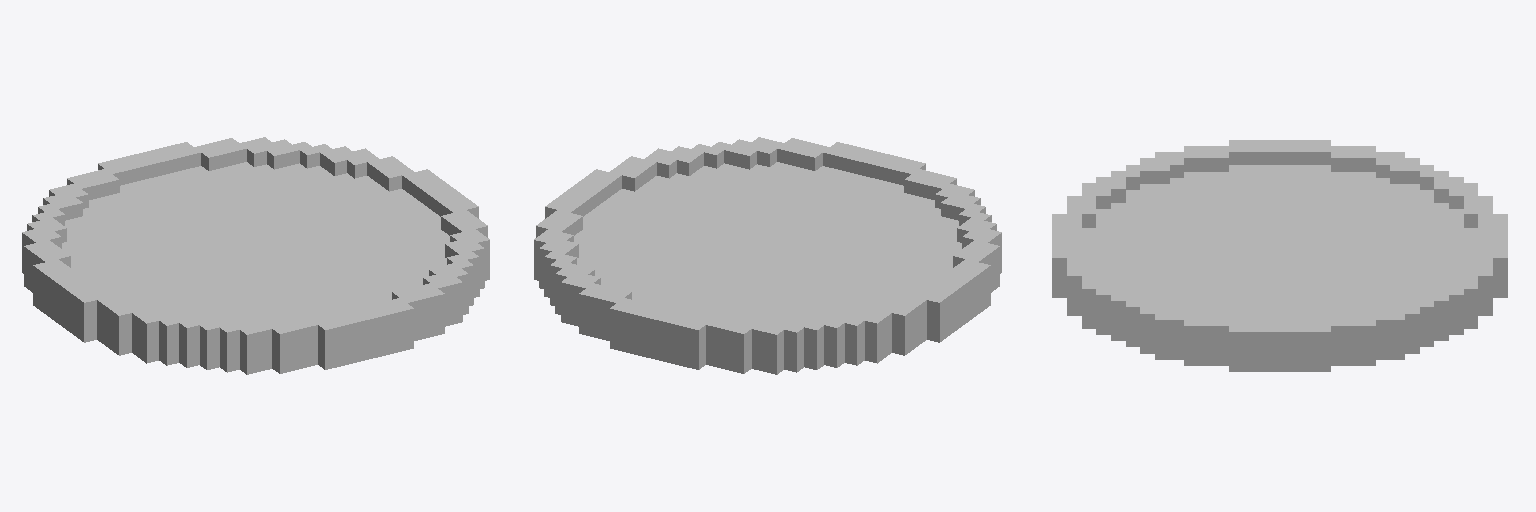
Rendered from clock.obj.
3 renders of one model, left to right at view 1: azimuth 30°, elevation 25°; view 2: azimuth 150°, elevation 25°; view 3: azimuth 270°, elevation 25°, orthographic.
Size of the model in its own units: 31 by 3 by 31.